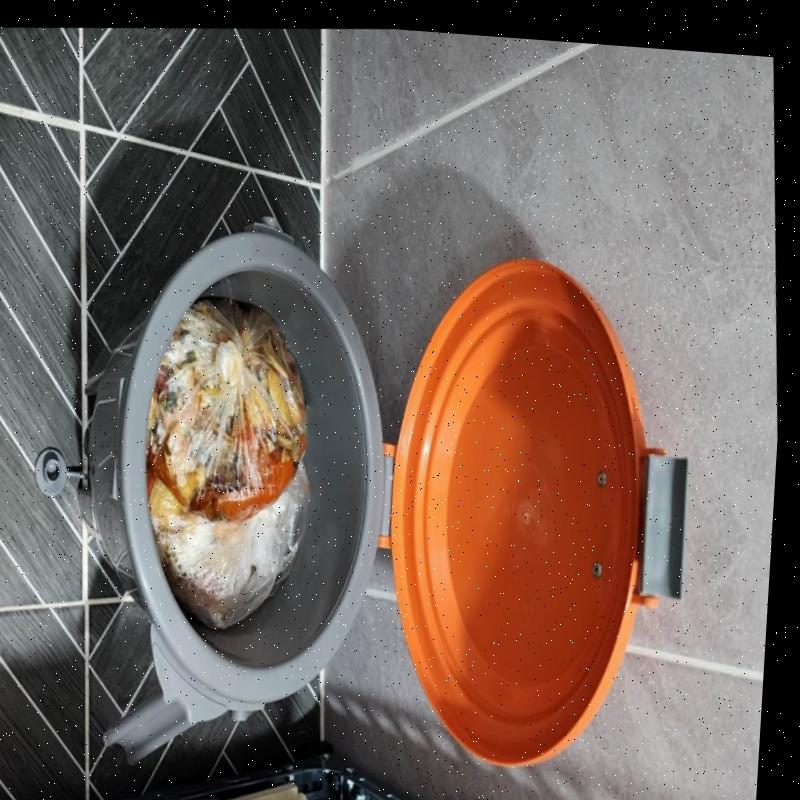left-over food: (145, 296, 306, 521)
plastic bag: (145, 461, 309, 630)
